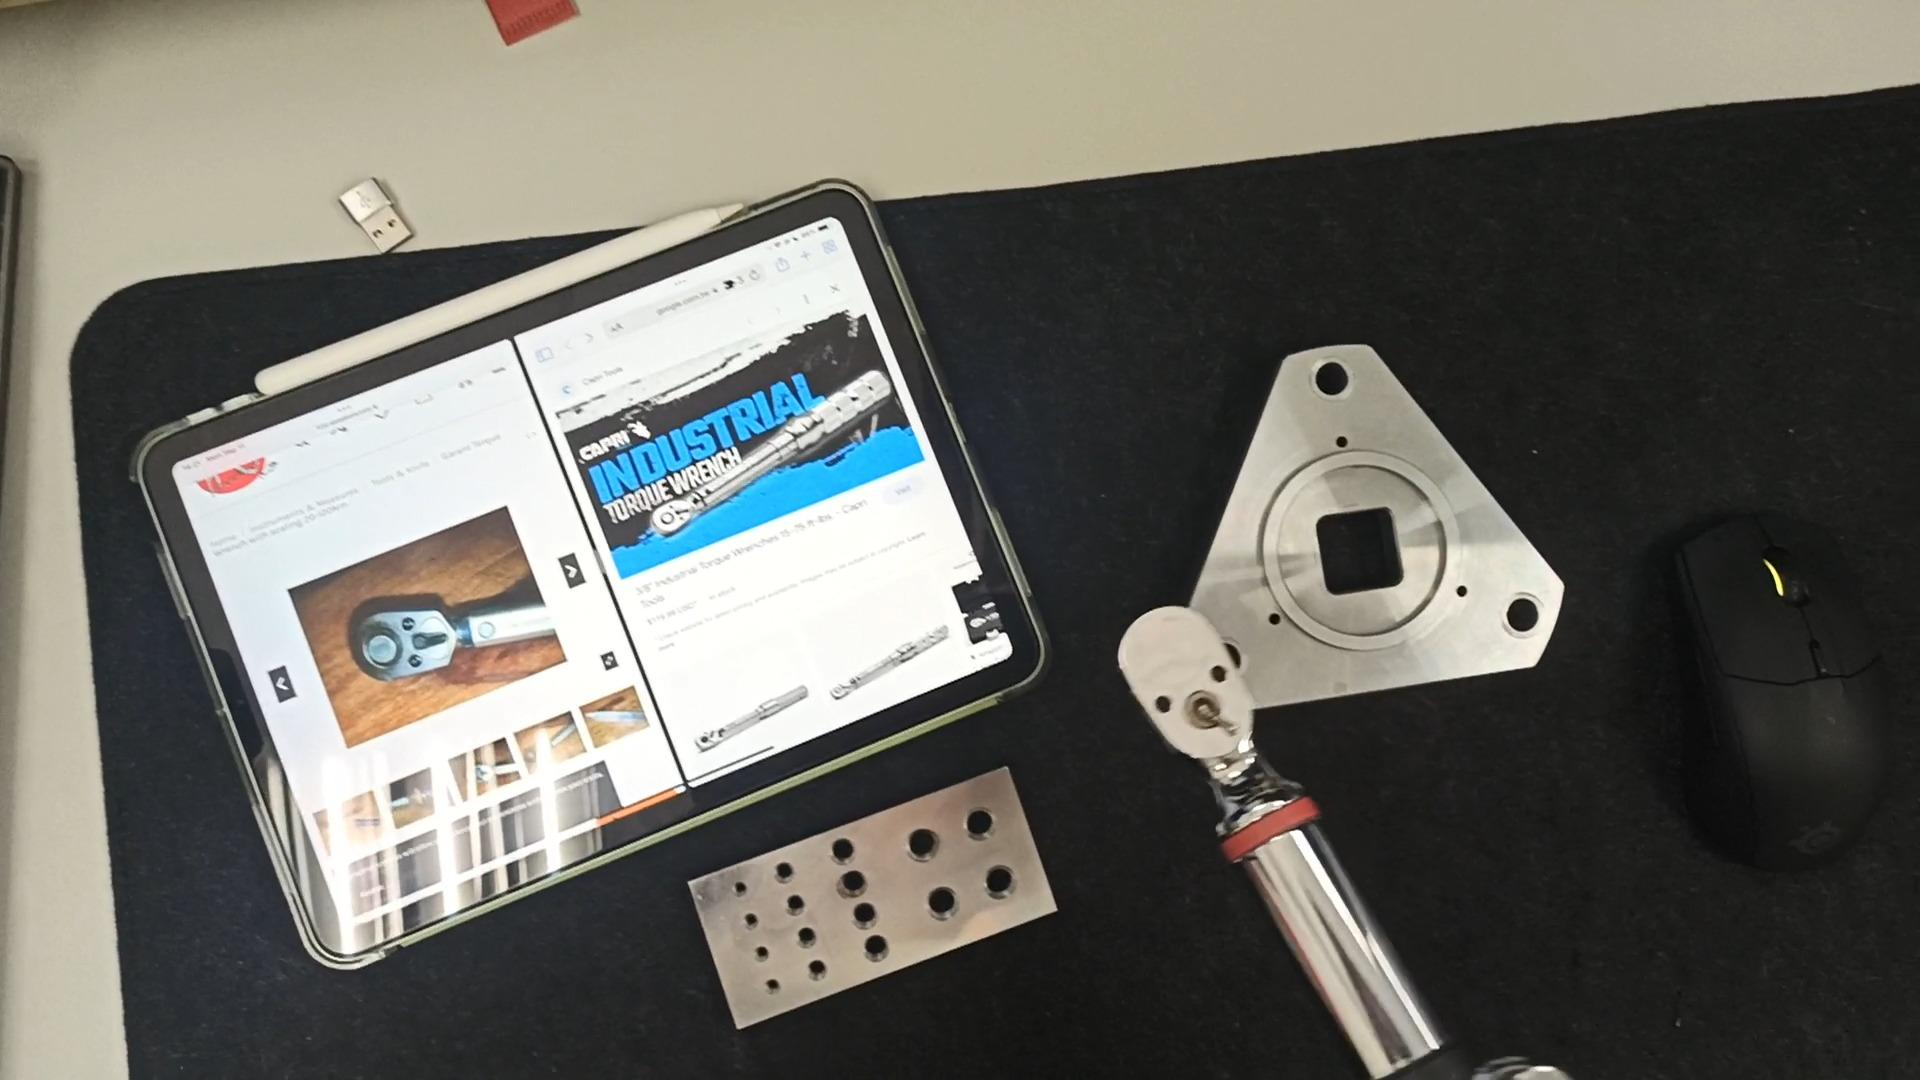Tool: (1109, 603, 1291, 819), (351, 600, 459, 680), (645, 500, 692, 534)
hole: (1484, 592, 1549, 645), (1292, 355, 1361, 402), (960, 864, 1026, 906), (936, 807, 1001, 848), (882, 823, 945, 864), (906, 887, 968, 927), (808, 840, 860, 869), (819, 872, 868, 901), (853, 936, 901, 965), (833, 905, 882, 932), (758, 862, 798, 885), (782, 930, 820, 951), (770, 901, 807, 922), (793, 965, 831, 985), (744, 980, 778, 1000), (723, 878, 750, 902), (724, 913, 757, 932), (735, 945, 767, 964)
